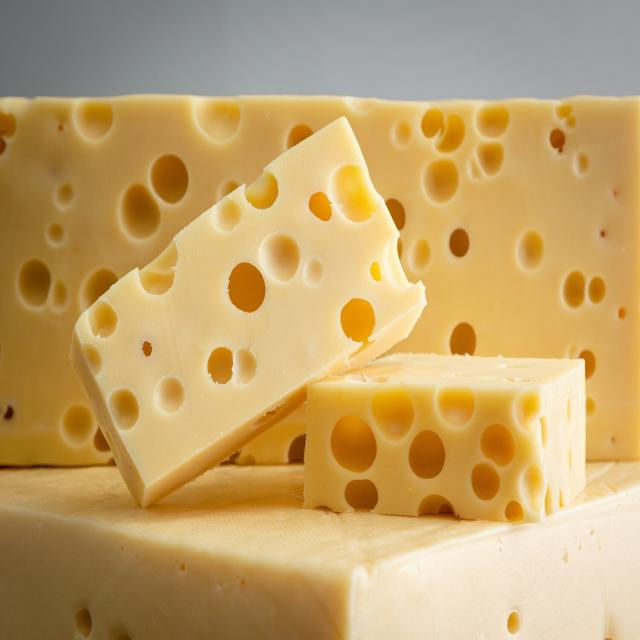Cheese: (0, 114, 640, 640), (67, 116, 600, 546)
